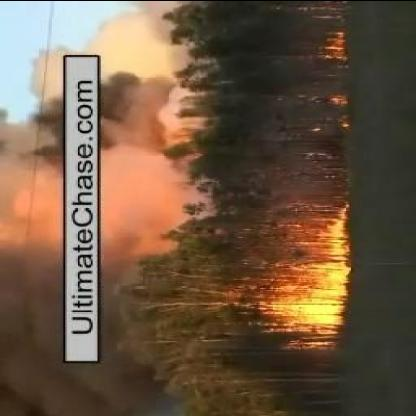-: (2, 103, 60, 319), (100, 57, 172, 160)
foggia-v2-map80-epoch100 - v1 4323: (278, 262, 344, 328)
